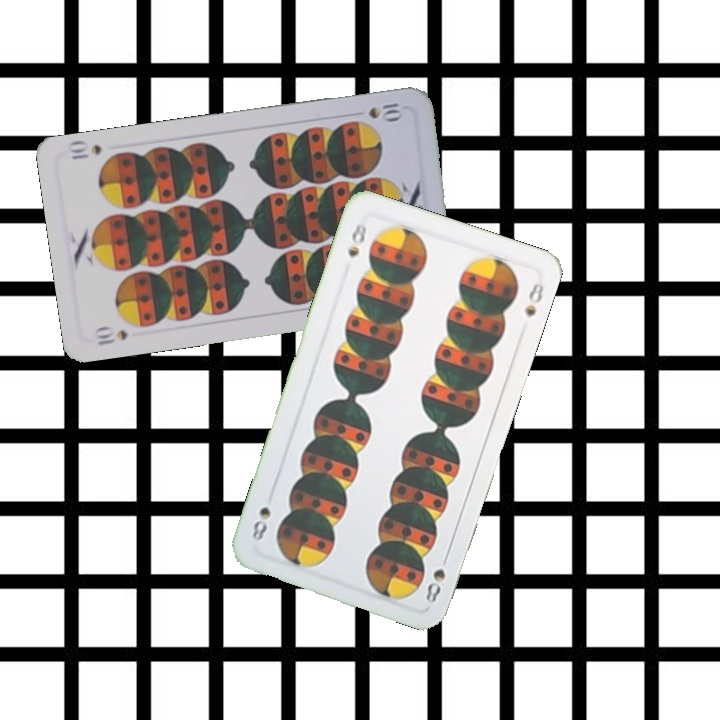S10: (364, 98, 405, 123), (90, 323, 131, 348)
S8: (421, 549, 452, 608), (343, 218, 369, 260)
